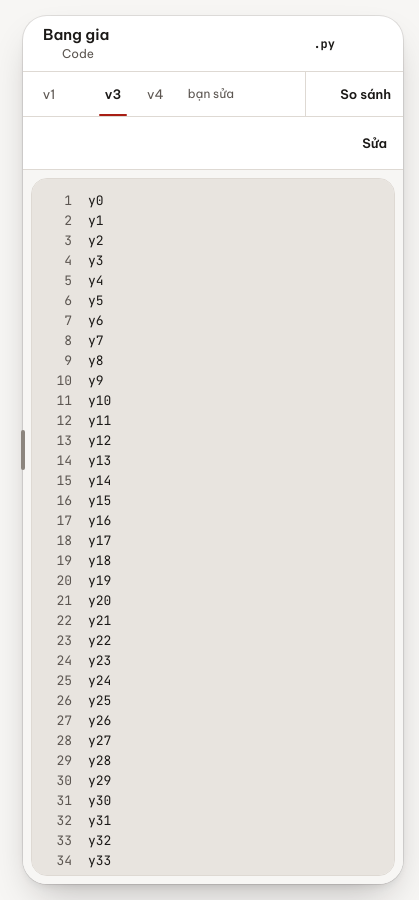
Test: so sanh › 5. vuot tran so dong ⇒ thong bao 'qua dai de so', khong bang khac biet
Expected: the number of tabs is 3, [27,72,71,116]; [91,72,135,116]; [135,72,246,116]
Click the button "So sánh".
click(354, 94)  # box [305,72,403,116]
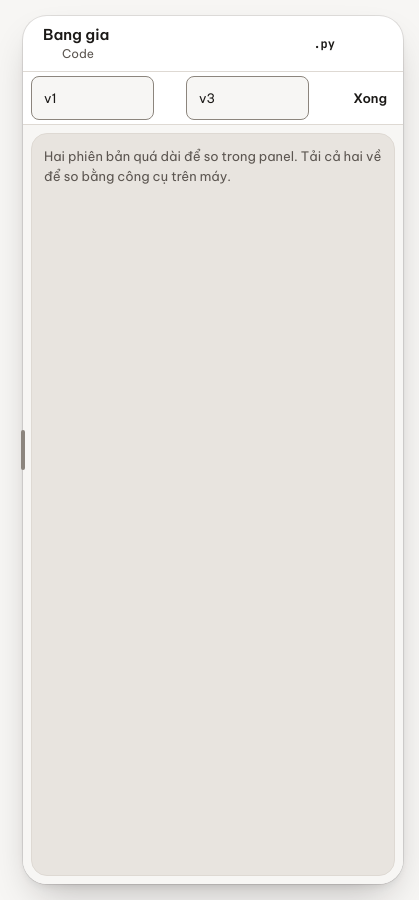
Now the message shows "quá dài để so", box [44,148,381,184]
